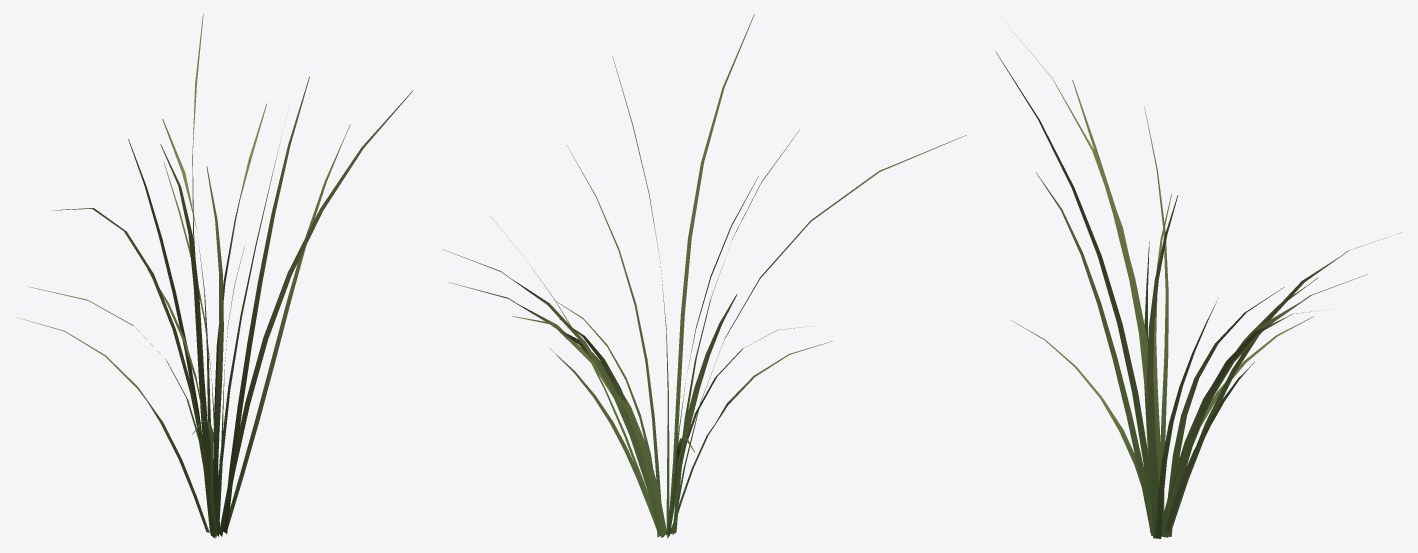
File: eelgrass_0.glb
The picture shows the model from 3 angles, left to right: view 1: azimuth 30°, elevation 25°; view 2: azimuth 150°, elevation 25°; view 3: azimuth 270°, elevation 25°; orthographic projection. The views are drawn at different scales.
Visible parts, largest first — view 1: eelgrass_0; view 2: eelgrass_0; view 3: eelgrass_0.
Part boxes in pixels (x1=…): eelgrass_0: x1=15, y1=14, x2=413, y2=538; eelgrass_0: x1=442, y1=14, x2=966, y2=538; eelgrass_0: x1=995, y1=21, x2=1401, y2=538.
Bounding box in the file's own units: 1.04 × 1.26 × 0.9673.
